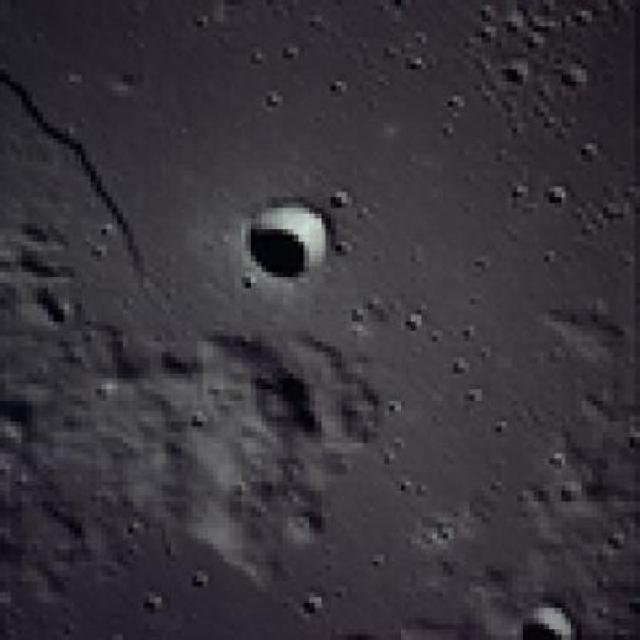crater: (248, 202, 324, 281)
